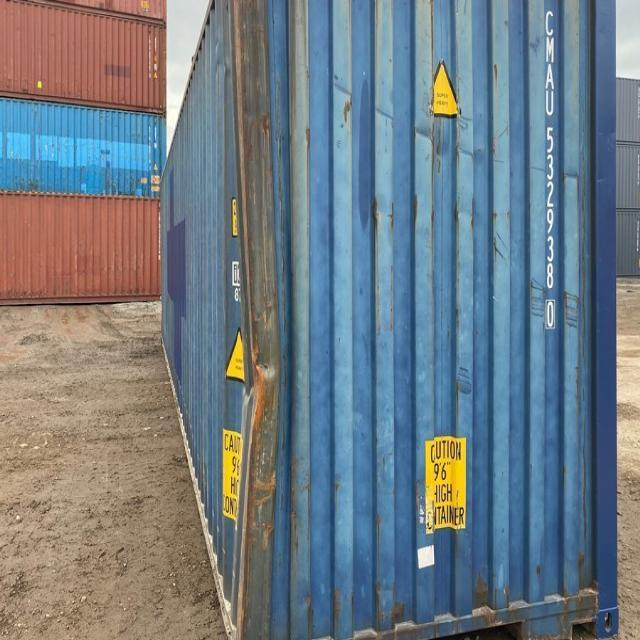dent: (235, 111, 296, 578)
